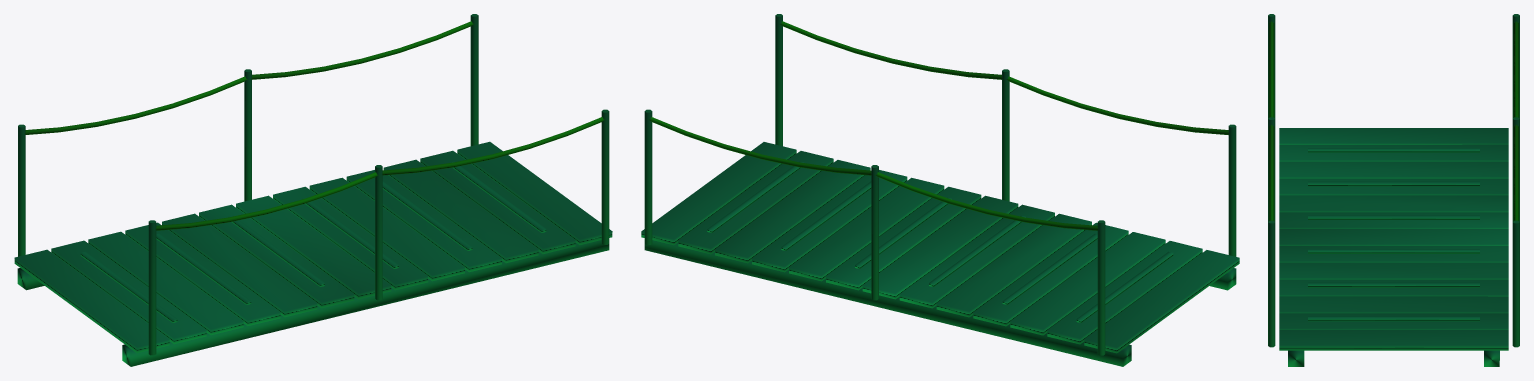
The model's file is gangplank.glb.
3 views of the same model, side by side, from view 1: azimuth 30°, elevation 25°; view 2: azimuth 150°, elevation 25°; view 3: azimuth 270°, elevation 25° (orthographic). The views are drawn at different scales.
Visible parts, largest first — view 1: gangplank; view 2: gangplank; view 3: gangplank.
Part boxes in pixels (box(x1,y1,x2,y2)): gangplank: box(14, 14, 612, 366); gangplank: box(641, 14, 1239, 366); gangplank: box(1268, 14, 1519, 366).
Size of what is drawn, in the model's own units: 3.59 by 1.07 by 1.75.
